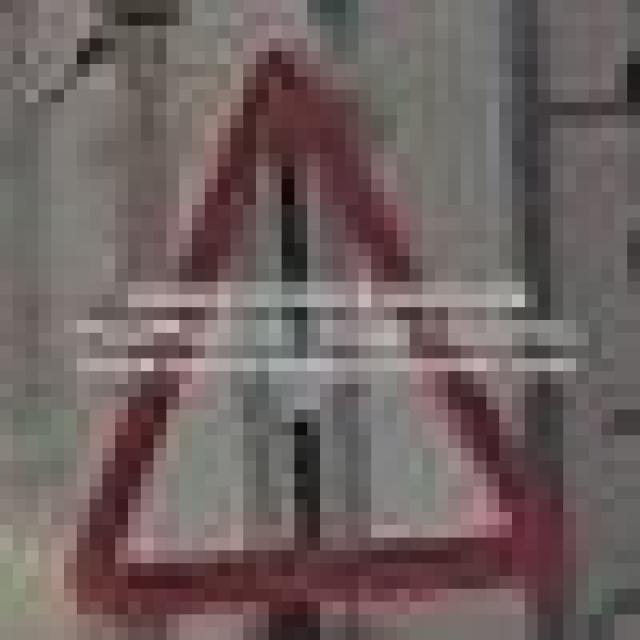GAP_IN_MEDIAN: (54, 38, 603, 602)
